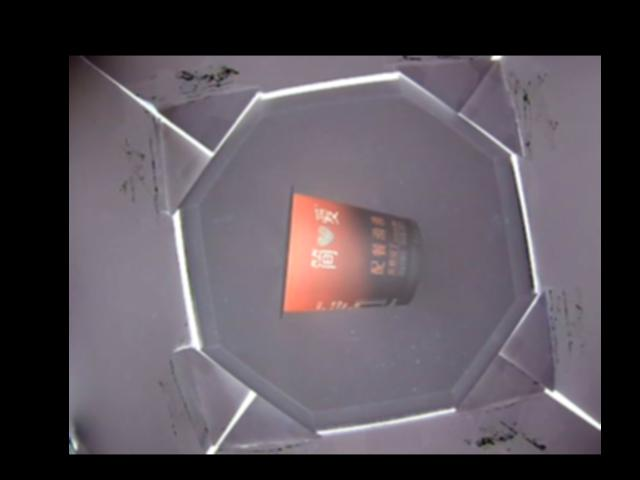Cup: (275, 187, 419, 315)
